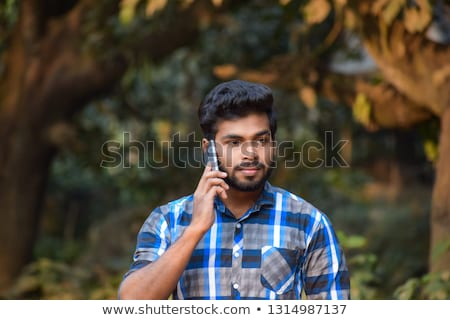phone: (200, 139, 225, 195)
talk: (192, 131, 271, 218)
